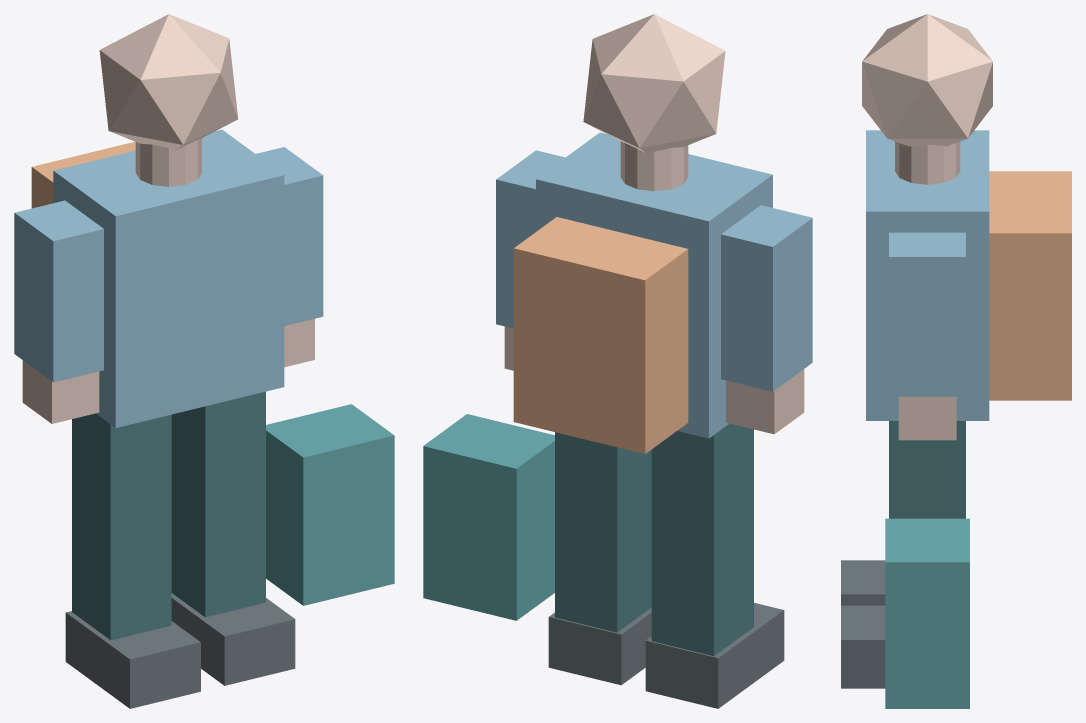
The model's file is airport_passenger.glb.
3 views of the same model, side by side, from view 1: azimuth 30°, elevation 25°; view 2: azimuth 150°, elevation 25°; view 3: azimuth 270°, elevation 25° (orthographic). The views are drawn at different scales.
Visible parts, largest first — view 1: airport_passenger__Torso, airport_passenger__Luggage, airport_passenger__Shin_L, airport_passenger__Shin_R, airport_passenger__Sleeve_L, airport_passenger__Head, airport_passenger__Boot_L, airport_passenger__Boot_R, airport_passenger__Sleeve_R, airport_passenger__Hand_L, airport_passenger__Neck, airport_passenger__Backpack (+1 smaller); view 2: airport_passenger__Backpack, airport_passenger__Luggage, airport_passenger__Torso, airport_passenger__Shin_L, airport_passenger__Shin_R, airport_passenger__Sleeve_L, airport_passenger__Head, airport_passenger__Boot_L, airport_passenger__Boot_R, airport_passenger__Sleeve_R, airport_passenger__Hand_L, airport_passenger__Neck; view 3: airport_passenger__Backpack, airport_passenger__Torso, airport_passenger__Luggage, airport_passenger__Head, airport_passenger__Sleeve_R, airport_passenger__Shin_R, airport_passenger__Boot_R, airport_passenger__Hand_R, airport_passenger__Neck, airport_passenger__Boot_L.
Part boxes in pixels (x1,y1,x2,y2): airport_passenger__Torso: [53, 129, 284, 427]; airport_passenger__Luggage: [266, 404, 394, 605]; airport_passenger__Shin_L: [72, 413, 171, 640]; airport_passenger__Shin_R: [171, 391, 265, 617]; airport_passenger__Sleeve_L: [14, 200, 103, 382]; airport_passenger__Head: [99, 14, 238, 150]; airport_passenger__Boot_L: [65, 611, 200, 708]; airport_passenger__Boot_R: [171, 593, 295, 685]; airport_passenger__Sleeve_R: [256, 147, 323, 325]; airport_passenger__Hand_L: [22, 360, 99, 423]; airport_passenger__Neck: [135, 138, 201, 186]; airport_passenger__Backpack: [31, 141, 135, 208]; airport_passenger__Backpack: [513, 217, 688, 453]; airport_passenger__Luggage: [423, 414, 554, 620]; airport_passenger__Torso: [536, 132, 772, 438]; airport_passenger__Shin_L: [651, 423, 753, 656]; airport_passenger__Shin_R: [555, 432, 651, 632]; airport_passenger__Sleeve_L: [721, 205, 812, 391]; airport_passenger__Head: [583, 14, 725, 153]; airport_passenger__Boot_L: [645, 602, 784, 708]; airport_passenger__Boot_R: [548, 607, 651, 685]; airport_passenger__Sleeve_R: [496, 150, 565, 328]; airport_passenger__Hand_L: [726, 369, 804, 434]; airport_passenger__Neck: [620, 141, 688, 191]; airport_passenger__Backpack: [989, 171, 1071, 400]; airport_passenger__Torso: [866, 130, 989, 420]; airport_passenger__Luggage: [885, 518, 969, 708]; airport_passenger__Head: [862, 14, 992, 146]; airport_passenger__Sleeve_R: [889, 232, 965, 396]; airport_passenger__Shin_R: [889, 421, 965, 518]; airport_passenger__Boot_R: [841, 605, 885, 688]; airport_passenger__Hand_R: [898, 396, 956, 440]; airport_passenger__Neck: [895, 141, 960, 184]; airport_passenger__Boot_L: [841, 560, 885, 605].
Size of the model in its own units: 1 by 1.82 by 0.6.
